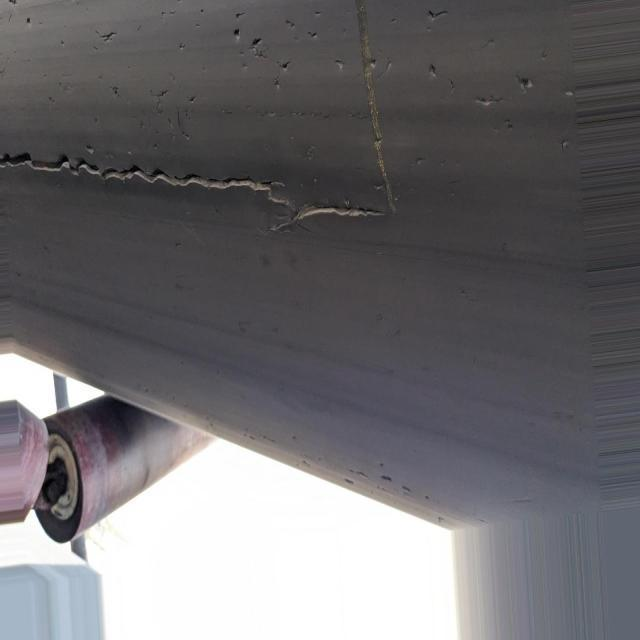Puncture: (508, 66, 540, 95), (420, 47, 442, 89), (357, 51, 385, 73), (226, 24, 246, 44), (274, 55, 294, 74), (249, 34, 265, 52), (22, 11, 36, 30)
Tear: (0, 147, 380, 247), (338, 0, 412, 234), (420, 1, 460, 35), (466, 91, 508, 109), (92, 27, 125, 49)
